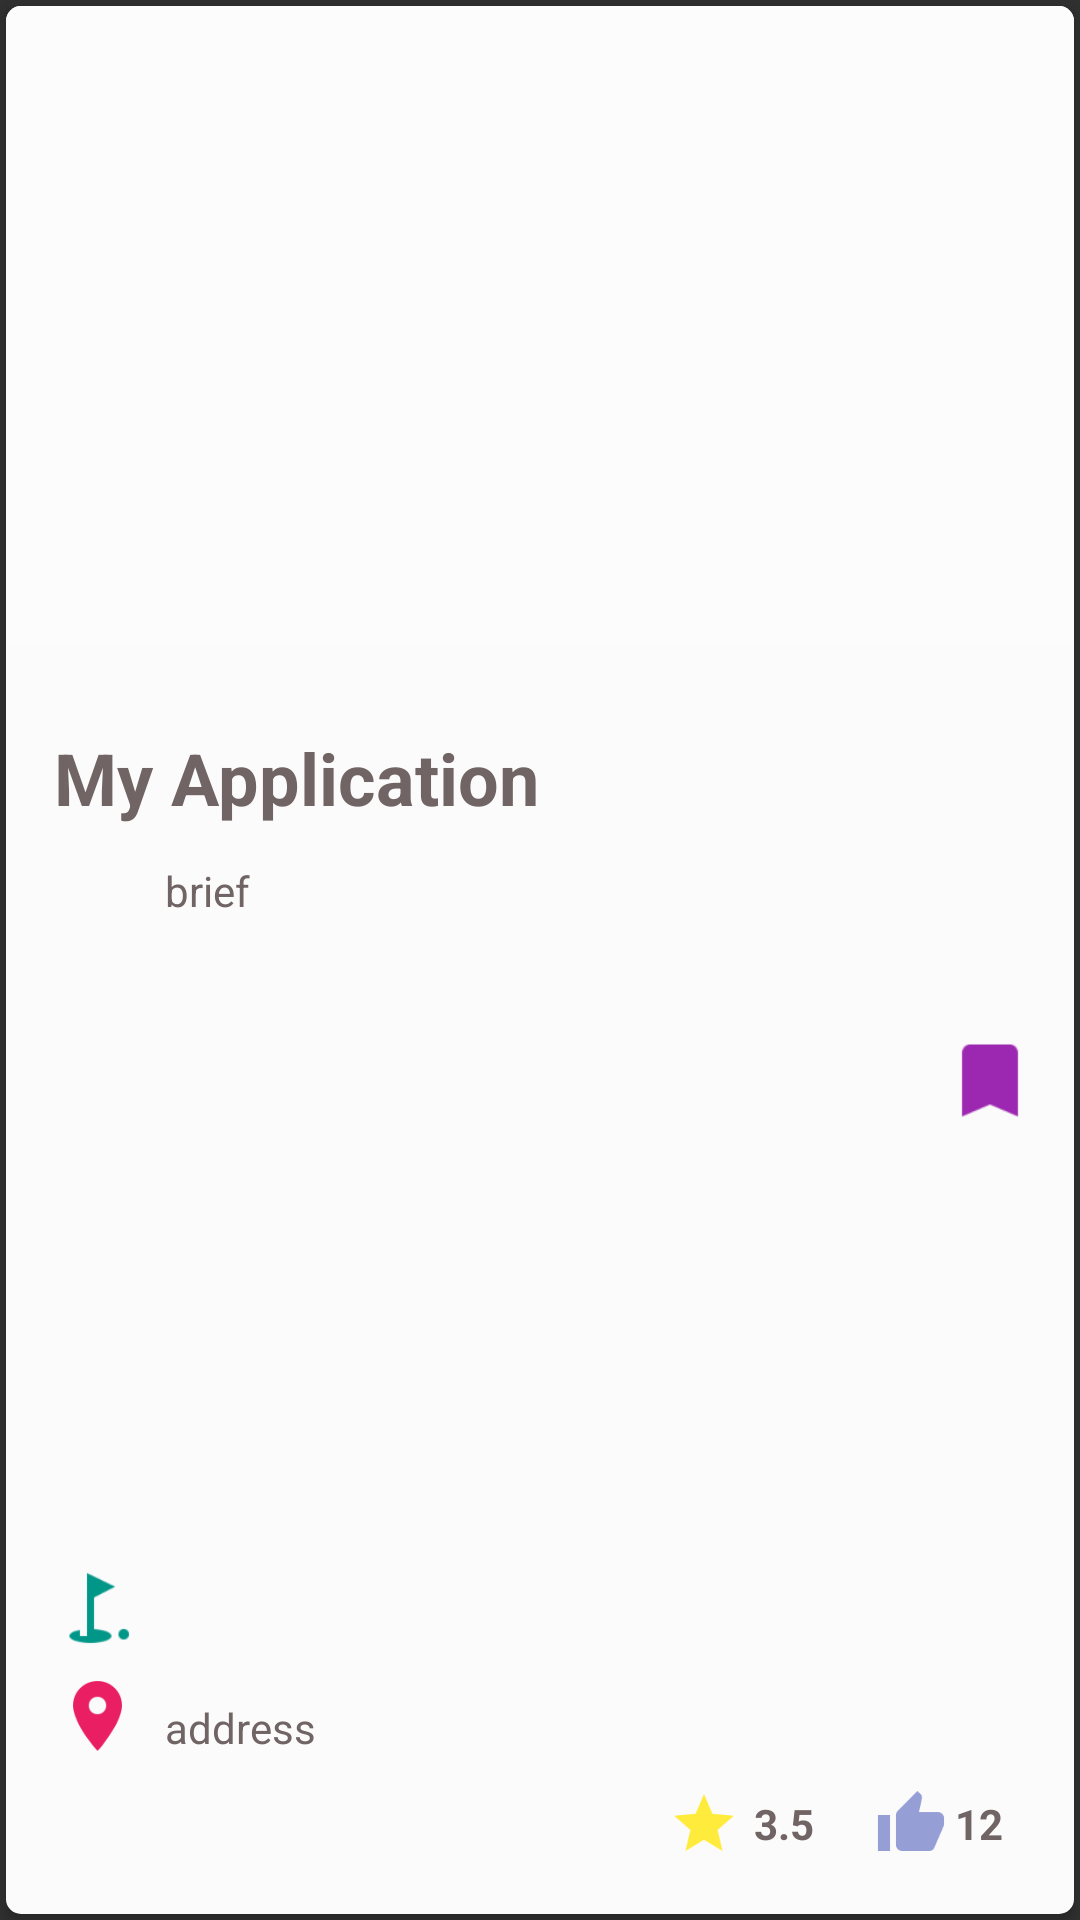

Where to tap for icons on this 1080 x 1920 app screen, as (x=x, y=y):
bookmark: (x=990, y=1080)
golf course: (x=99, y=1608)
location on: (x=97, y=1716)
star: (x=704, y=1822)
thumb up: (x=911, y=1821)
